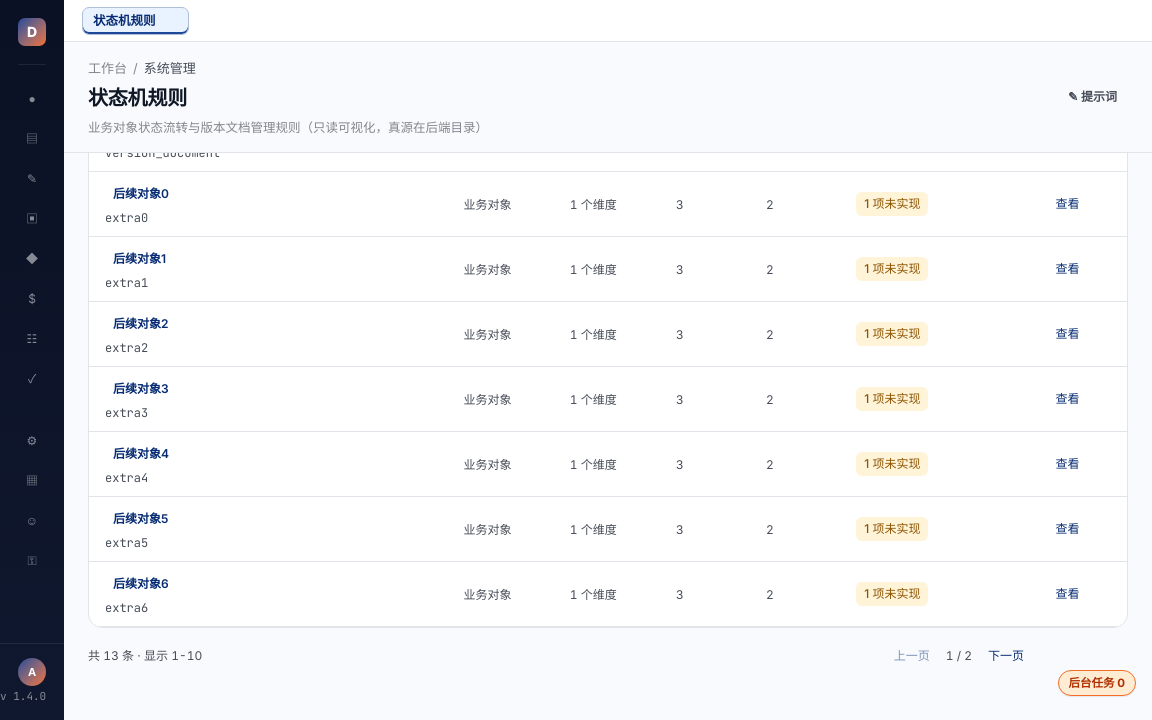
it: 系统管理 · 状态机规则可视化页 › 分页可到达后续对象，搜索状态说明后回到有效页
(page scrolled)
Click the button "下一页" at [1006, 656], box [980,640,1032,672]
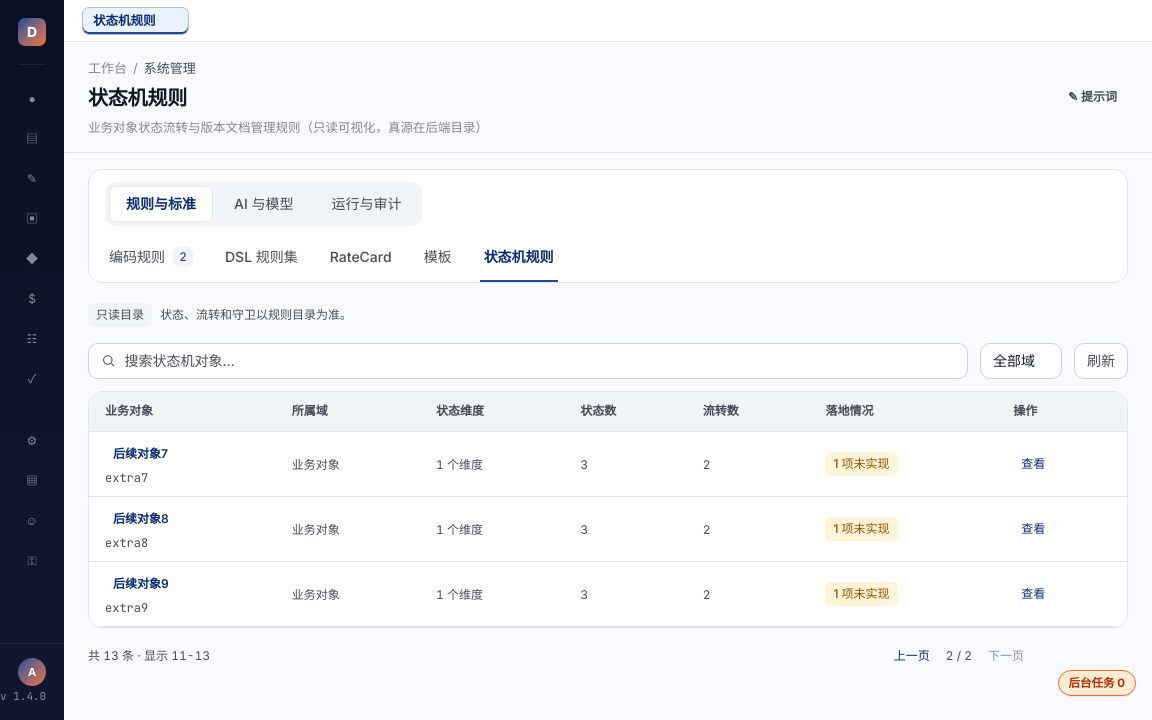
Click the button with aria-label "查看 后续对象9" at [1033, 594], box [1013,578,1053,610]
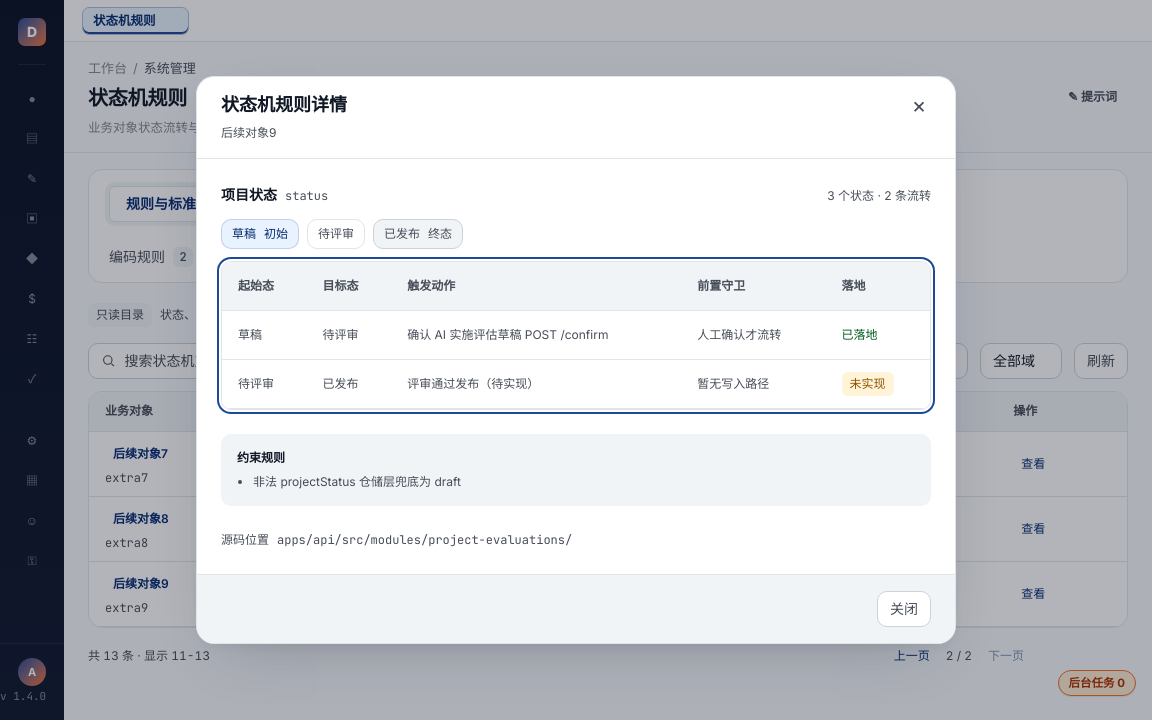
Check: the text "人工确认才流转" is shown, box [681,310,826,359]
Click the button "关闭" at [904, 609], box [877,591,931,627]
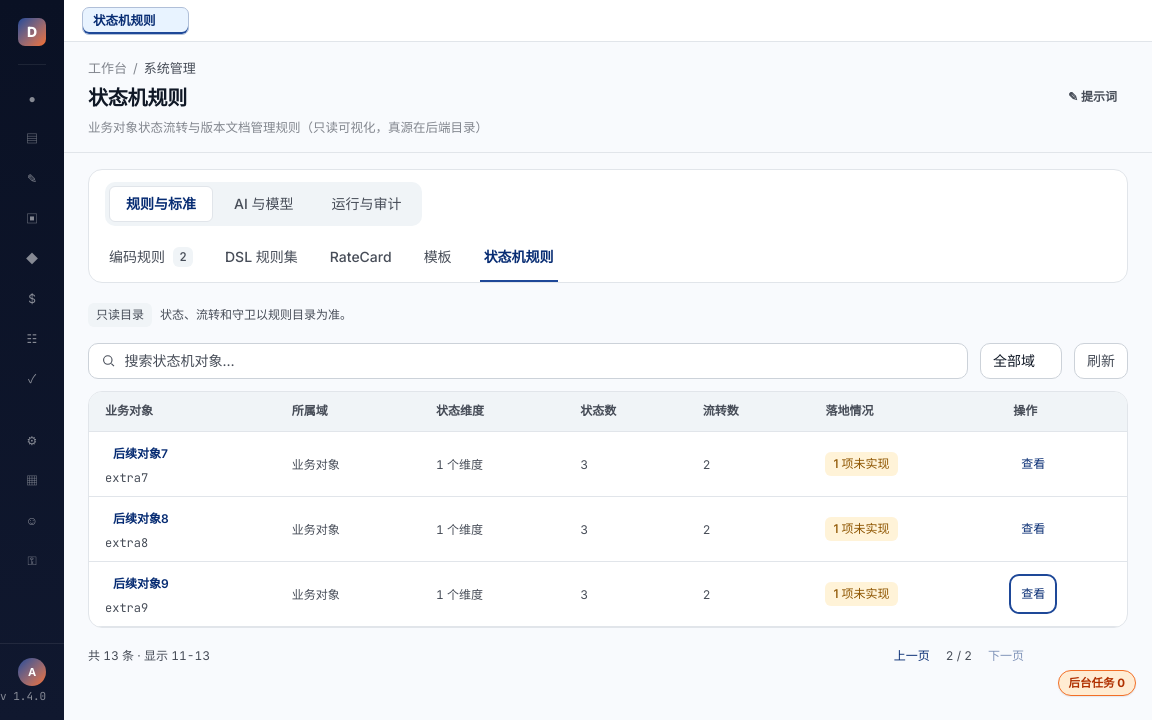
Type "排他编辑态" into the search field labelled "搜索状态机对象" at [540, 360], box [125,344,955,378]
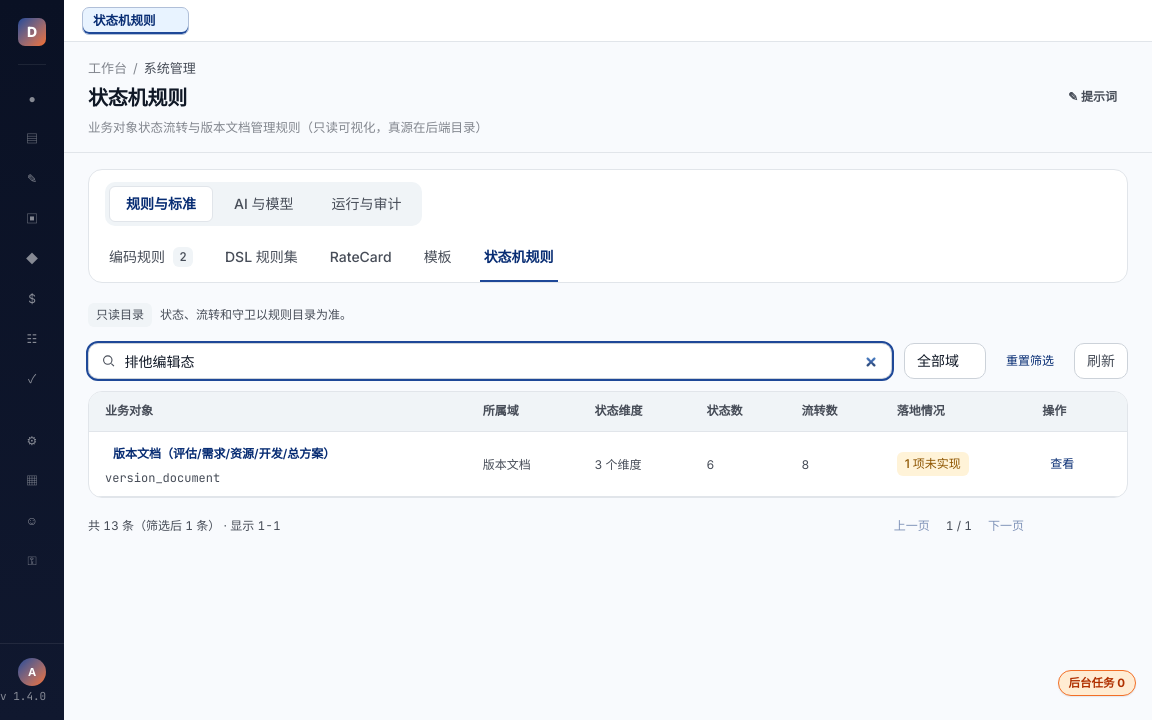
Check: the number of rows is 2, box [89,392,1127,432]; [89,432,1127,496]
Check: the button "上一页" is disabled, box [886,510,938,542]
